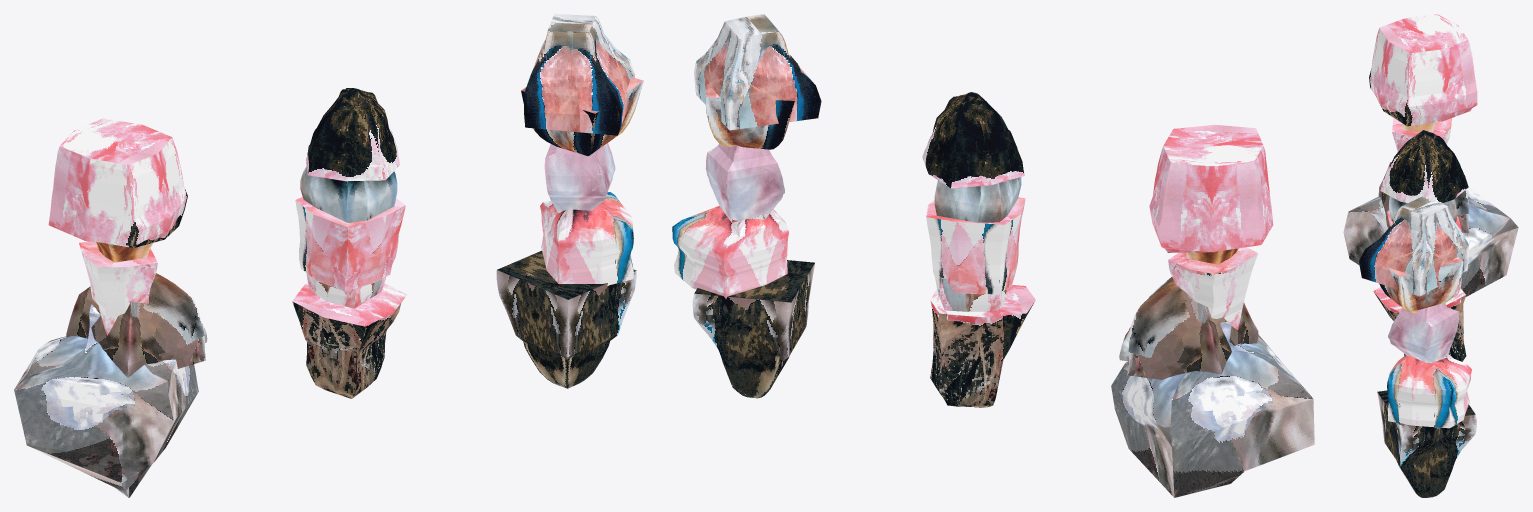
The picture shows the model from 3 angles, left to right: view 1: azimuth 30°, elevation 25°; view 2: azimuth 150°, elevation 25°; view 3: azimuth 270°, elevation 25°; orthographic projection. The views are drawn at different scales.
Visible parts, largest first — view 1: SPLICE_2 (×5), SPLICE_1 (×5), master (×2), SPLICE_3 (×2), splice_1; view 2: SPLICE_2 (×5), SPLICE_1 (×5), master (×2), SPLICE_3 (×2); view 3: SPLICE_1 (×4), SPLICE_2 (×4), master (×2), SPLICE_3 (×2), splice_1.
Boxes of the visible parts, <box> form: SPLICE_2 (×5): <box>14,77,643,497</box>; SPLICE_1 (×5): <box>306,14,635,308</box>; master (×2): <box>66,250,636,388</box>; SPLICE_3 (×2): <box>79,241,407,398</box>; splice_1: <box>96,242,153,262</box>; SPLICE_2 (×5): <box>705,66,1314,497</box>; SPLICE_1 (×5): <box>672,14,1024,311</box>; master (×2): <box>692,260,1258,398</box>; SPLICE_3 (×2): <box>930,247,1258,407</box>; SPLICE_1 (×4): <box>1359,130,1471,428</box>; SPLICE_2 (×4): <box>1343,14,1518,313</box>; master (×2): <box>1377,162,1476,497</box>; SPLICE_3 (×2): <box>1373,118,1466,361</box>; splice_1: <box>1402,122,1434,131</box>.
Size of the model in its own units: 8.1 by 4.59 by 2.48.
16 materials, 16 textured.
